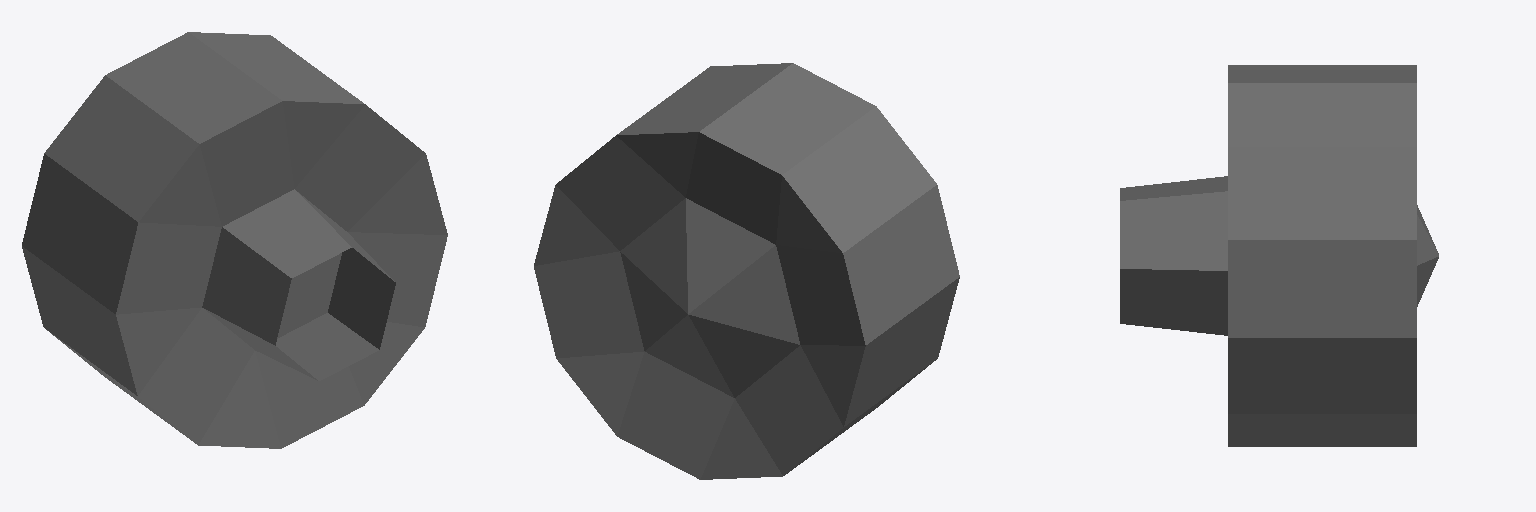
The model's file is wheel_r_back.obj.
3 views of the same model, side by side, from view 1: azimuth 30°, elevation 25°; view 2: azimuth 150°, elevation 25°; view 3: azimuth 270°, elevation 25° (orthographic).
Visible parts, largest first — view 1: LOD01_t-49; view 2: LOD01_t-49; view 3: LOD01_t-49.
Boxes of the visible parts, box(x1,y1,x2,y2) form: LOD01_t-49: box(22, 32, 447, 448); LOD01_t-49: box(534, 63, 959, 479); LOD01_t-49: box(1120, 65, 1438, 446).
Size of the model in its own units: 1.2 by 1.2 by 0.9957.